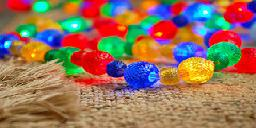LED: (124, 59, 161, 94), (177, 56, 217, 88), (79, 48, 110, 74), (151, 20, 177, 43)
